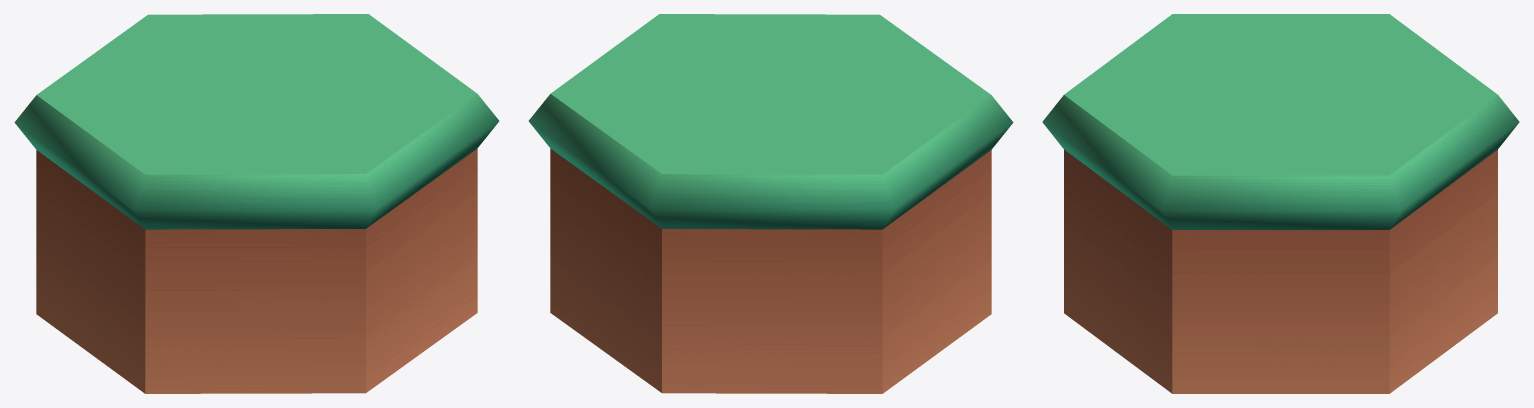
Rendered from block-grass-hexagon_lev2.glb.
The picture shows the model from 3 angles, left to right: view 1: azimuth 30°, elevation 25°; view 2: azimuth 150°, elevation 25°; view 3: azimuth 270°, elevation 25°; orthographic projection.
Parts seen in each view (by area): view 1: block-grass-hexagon_lev2; view 2: block-grass-hexagon_lev2; view 3: block-grass-hexagon_lev2.
Part boxes in pixels (bbox=[...]): block-grass-hexagon_lev2: bbox=[14, 14, 499, 393]; block-grass-hexagon_lev2: bbox=[528, 14, 1013, 393]; block-grass-hexagon_lev2: bbox=[1042, 14, 1519, 393].
Bounding box in the file's own units: 10.91 × 6.25 × 12.39.
Materials: 1 (1 with a texture image).
